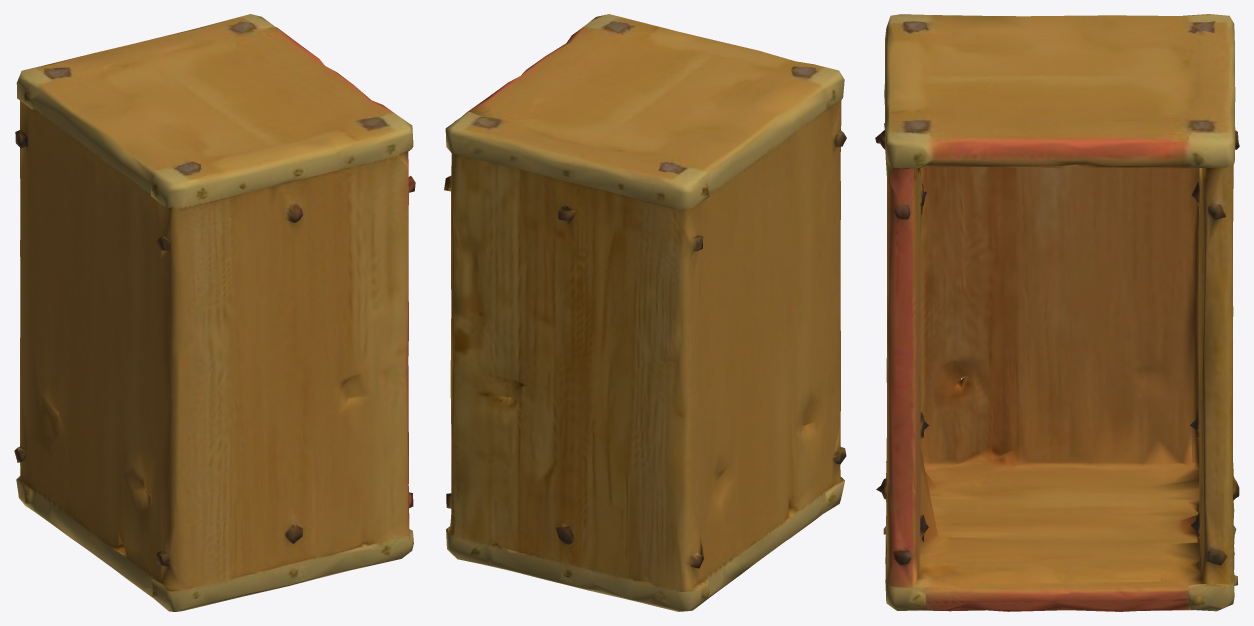
File: bucket.glb
The picture shows the model from 3 angles, left to right: view 1: azimuth 30°, elevation 25°; view 2: azimuth 150°, elevation 25°; view 3: azimuth 270°, elevation 25°; orthographic projection. The views are drawn at different scales.
Parts seen in each view (by area): view 1: tripo_node_3a839efc-5d0b-4cd5-8651-bf7578f5f5ee; view 2: tripo_node_3a839efc-5d0b-4cd5-8651-bf7578f5f5ee; view 3: tripo_node_3a839efc-5d0b-4cd5-8651-bf7578f5f5ee.
Part boxes in pixels (<box>): tripo_node_3a839efc-5d0b-4cd5-8651-bf7578f5f5ee: <box>14,14,415,611</box>; tripo_node_3a839efc-5d0b-4cd5-8651-bf7578f5f5ee: <box>444,14,846,611</box>; tripo_node_3a839efc-5d0b-4cd5-8651-bf7578f5f5ee: <box>875,14,1239,611</box>.
Bounding box in the file's own units: 0.6117 × 1 × 0.6923.
1 material, 1 textured.
